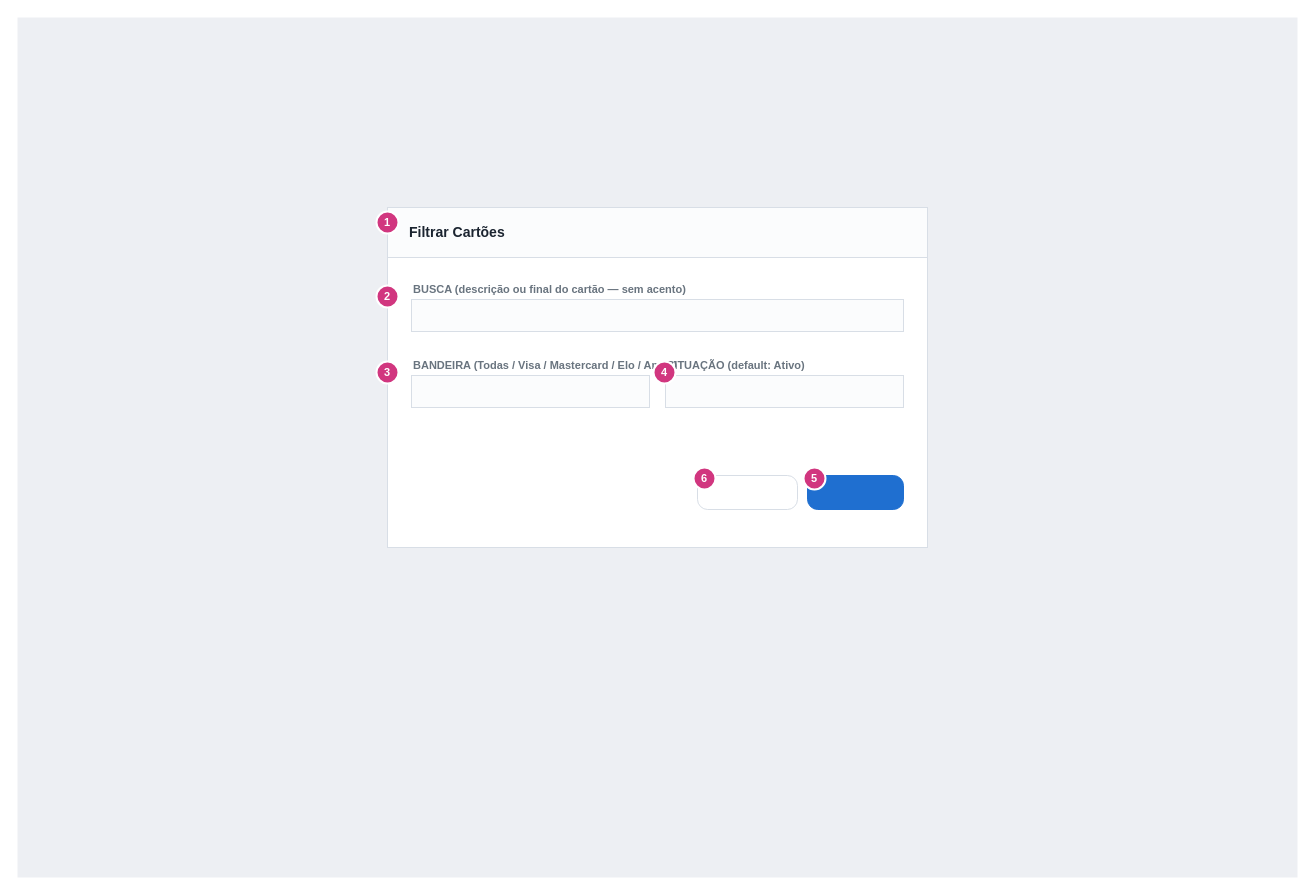
The diagram is 1314 pixels wide and 894 high, and some of its shapes have lost their labels. Each missing label, with the box of its shape:
Aplicar: (806, 474, 904, 510)
Limpar: (696, 474, 798, 510)
